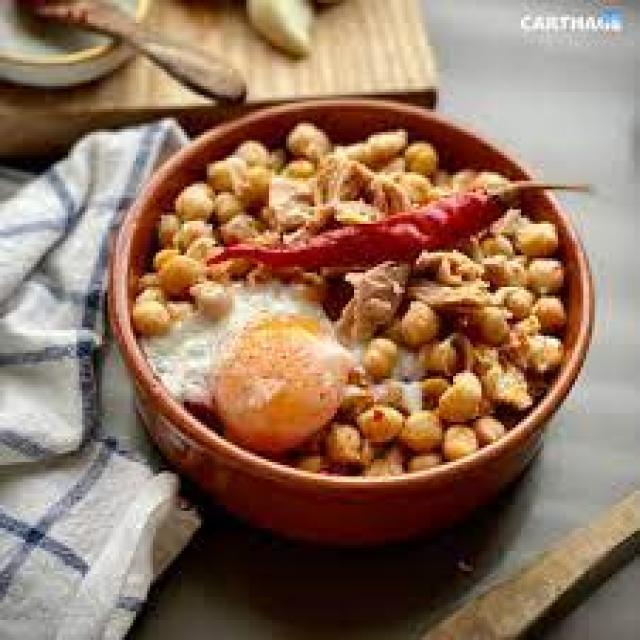Lablabi: (130, 83, 590, 550)
